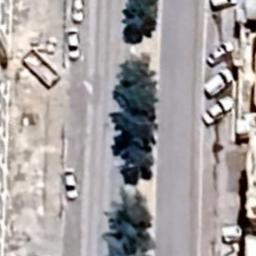sedan: (202, 96, 234, 128), (206, 42, 234, 68), (61, 168, 80, 202), (66, 26, 82, 60), (72, 0, 84, 24)
van: (202, 67, 234, 99)
